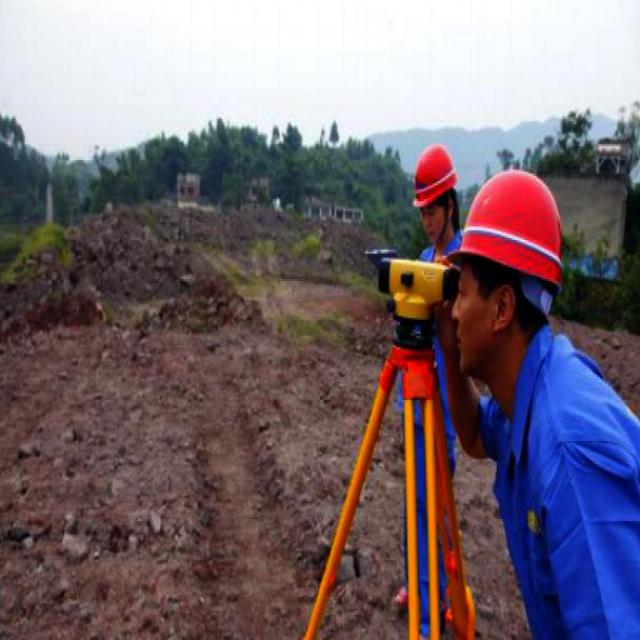helmet: (443, 150, 555, 394), (405, 138, 463, 244)
